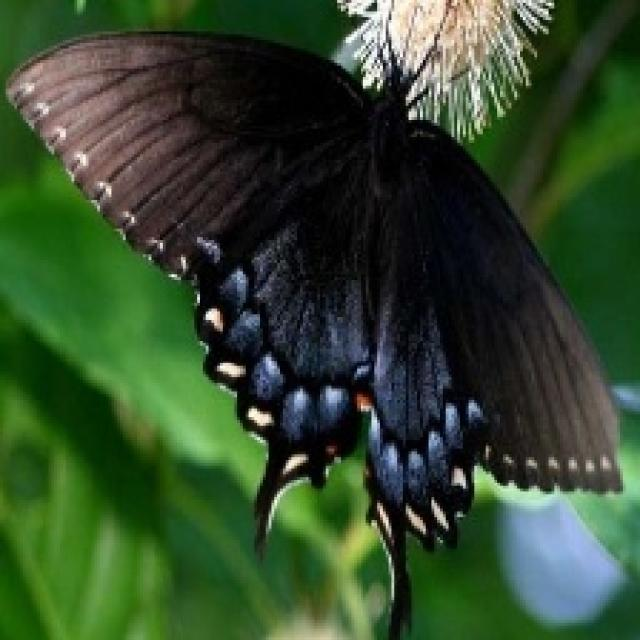butterfly: (3, 17, 631, 637)
